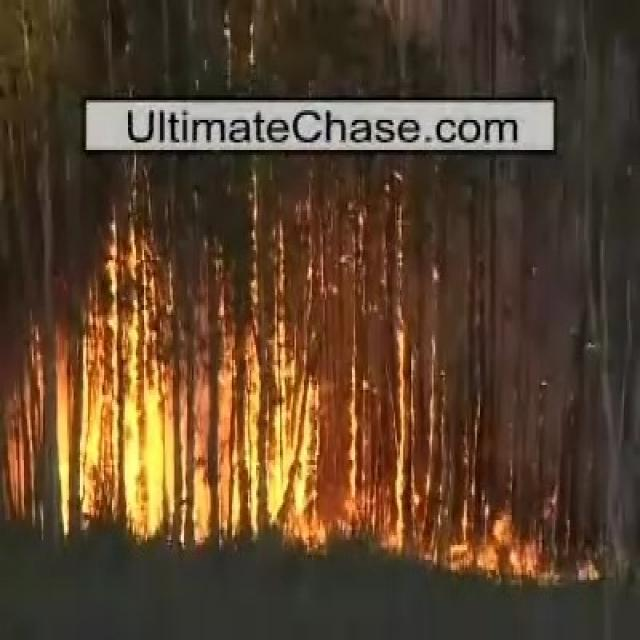fire: (124, 376, 174, 533)
